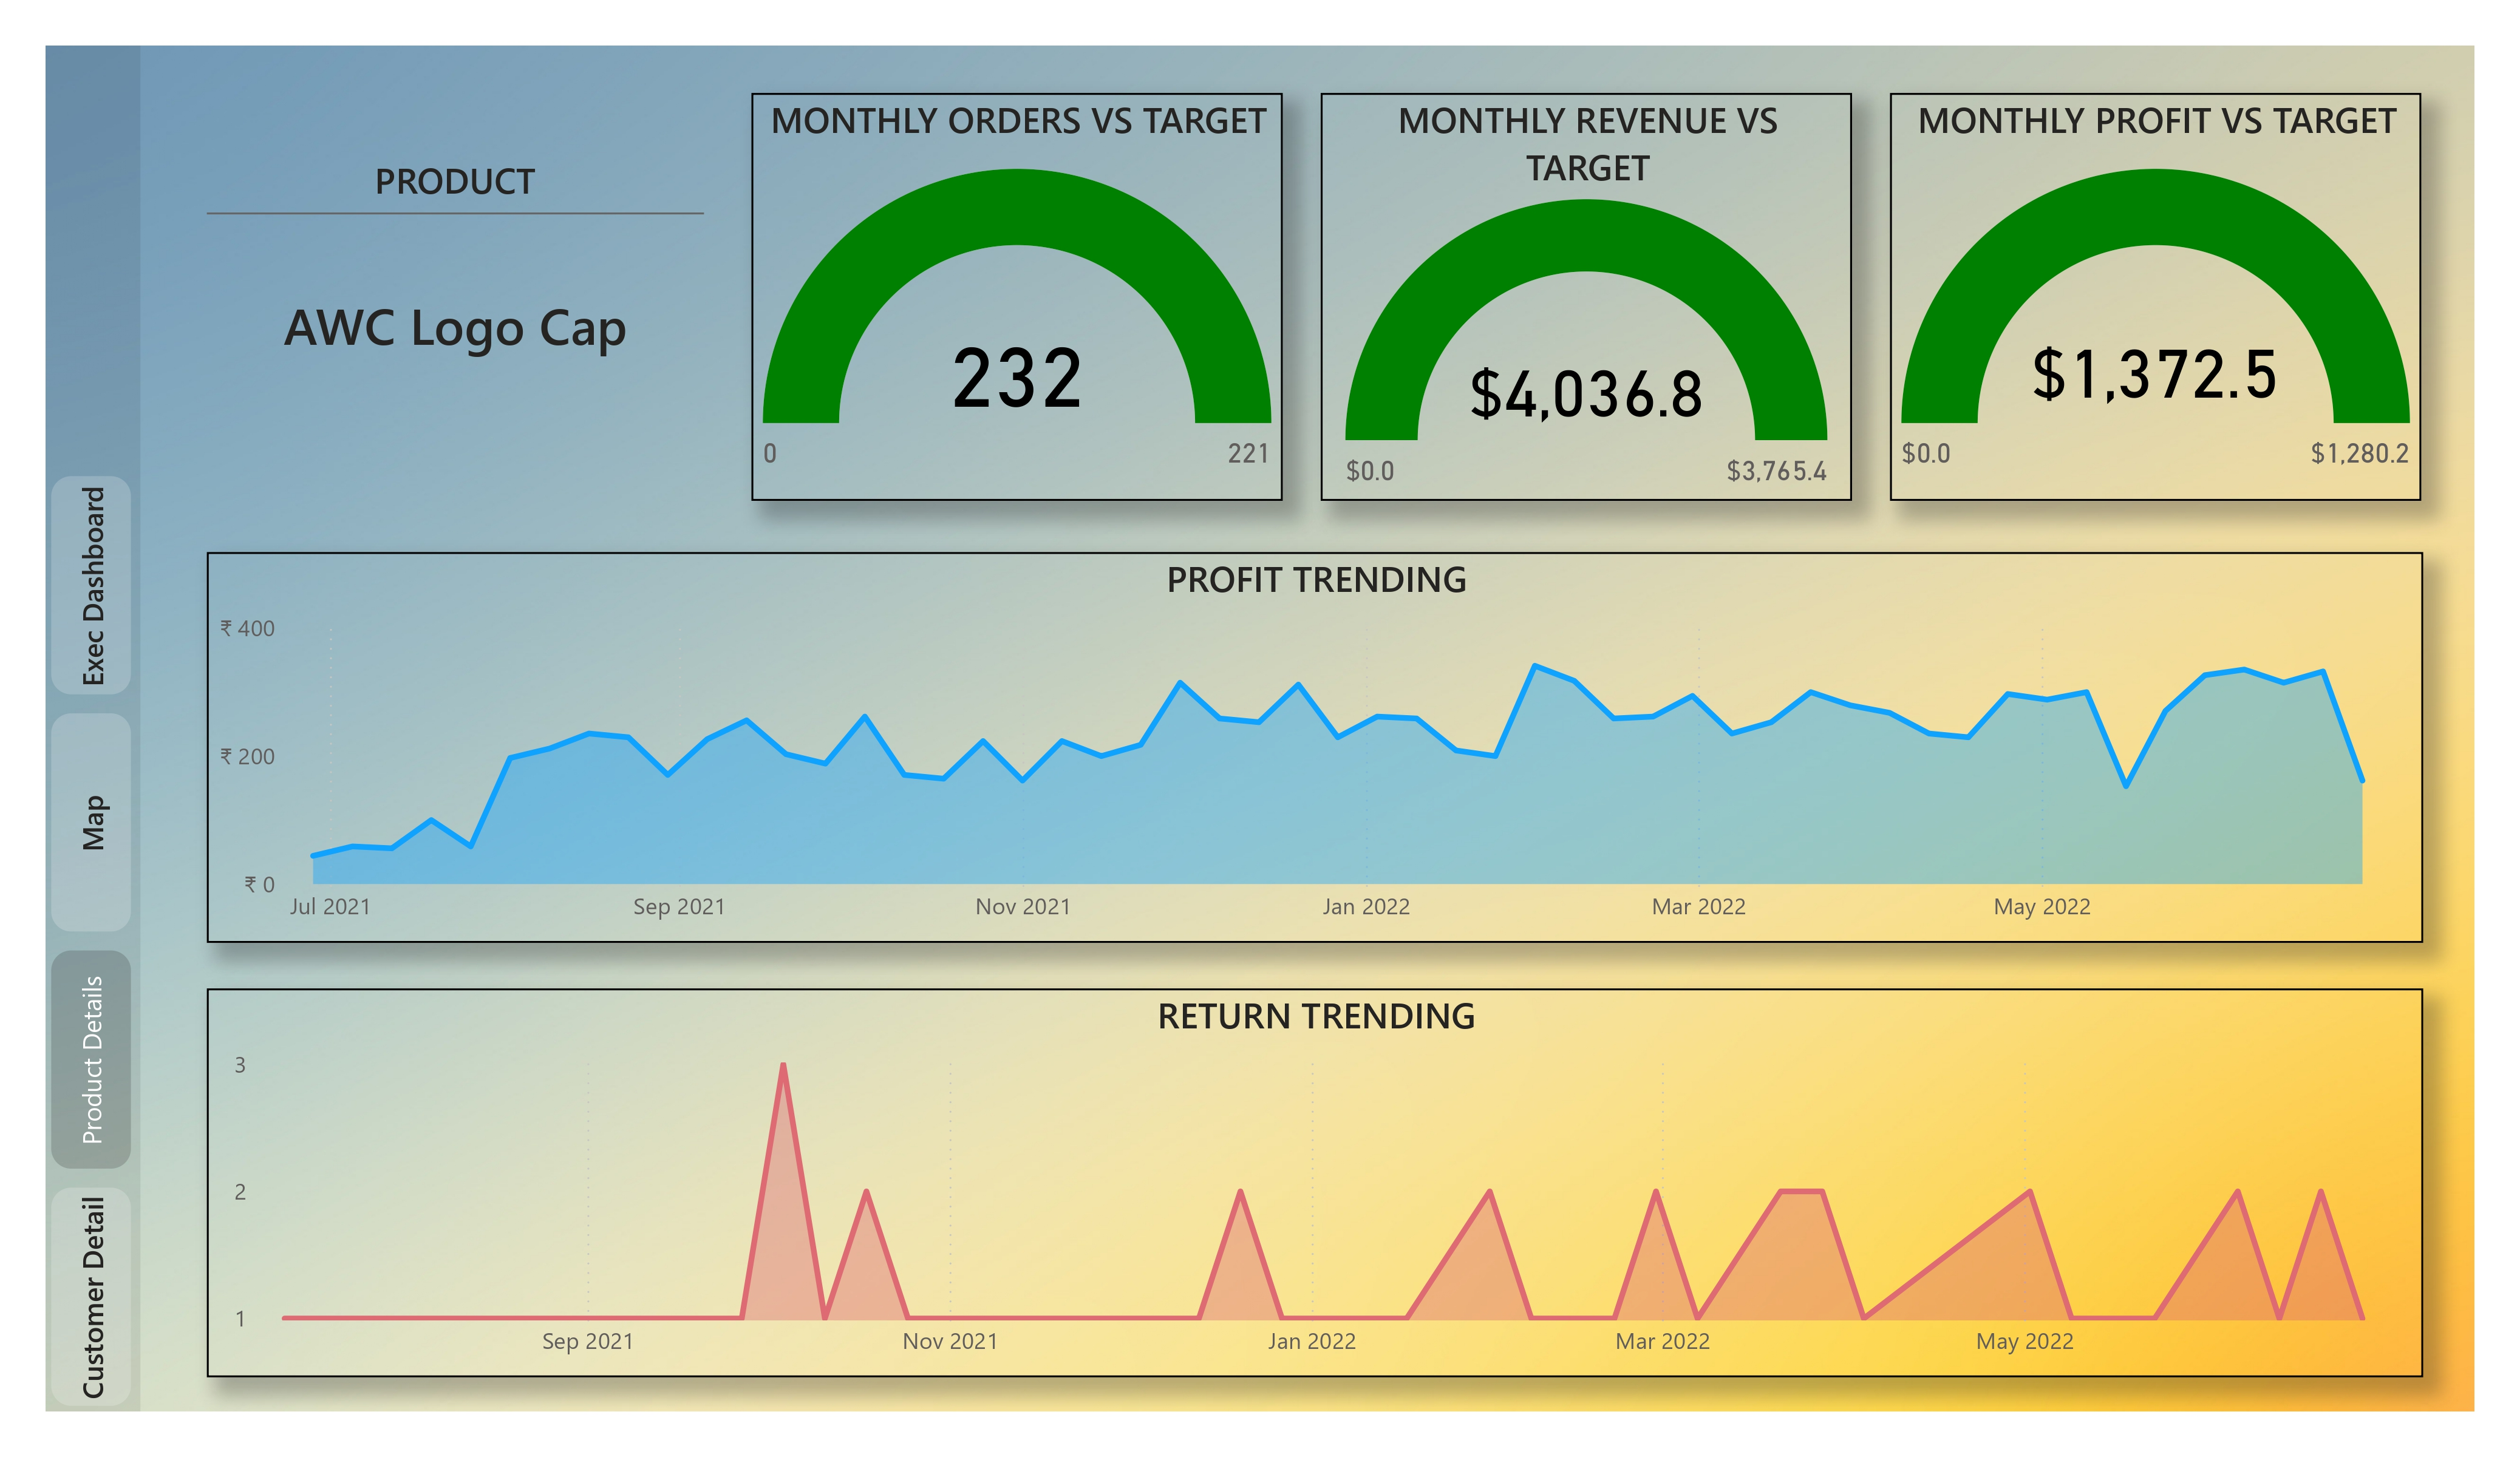

What the dashboard file says about the page in this screenshot:
{"tool":"powerbi","page":{"name":"Product Details","canvas":[1280,720],"ordinal":2},"visuals":[{"type":"gauge","title":"MONTHLY ORDERS VS TARGET","fields":{"Y":["Measure Table.Total Orders"],"MaxValue":["Measure Table.Order Target"]},"box":[371.7,25,280,215],"z":0},{"type":"gauge","title":"MONTHLY REVENUE VS TARGET","fields":{"Y":["Measure Table.Total Revenue"],"MaxValue":["Measure Table.Revenue Target"]},"box":[671.7,25,280,215],"z":1000},{"type":"gauge","title":"MONTHLY PROFIT VS TARGET","fields":{"Y":["Measure Table.Total Profit"],"MaxValue":["Measure Table.Profit Target"]},"box":[971.7,25,280,215],"z":2000},{"type":"areaChart","title":"PROFIT TRENDING","fields":{"Y":["Measure Table.Total Profit"],"Category":["Calendar Lookup.Date Hierarchy.Start of Year","Calendar Lookup.Date Hierarchy.Start of Month","Calendar Lookup.Date Hierarchy.Start of Week","Calendar Lookup.Date Hierarchy.Date"]},"box":[85,266.7,1168.3,206.7],"z":3000},{"type":"areaChart","title":"RETURN TRENDING","fields":{"Y":["Measure Table.Total Returns"],"Category":["Calendar Lookup.Date Hierarchy.Start of Year","Calendar Lookup.Date Hierarchy.Start of Month","Calendar Lookup.Date Hierarchy.Start of Week","Calendar Lookup.Date Hierarchy.Date"]},"box":[85,496.7,1168.3,205],"z":4000},{"type":"card","title":"PRODUCT","fields":{"Values":["Min(Product Lookup.ProductName)"]},"box":[85,58.3,261.7,148.3],"z":5000},{"type":"shape","box":[0,0,50,720],"z":6000},{"type":"pageNavigator","box":[3.3,226.7,41.7,493.3],"z":7000}]}

Visuals, with their boxes in screenshot pixels (x1, y1, x2, y2):
"MONTHLY ORDERS VS TARGET" gauge: 735:100:1260:502
"MONTHLY REVENUE VS TARGET" gauge: 1297:100:1822:502
"MONTHLY PROFIT VS TARGET" gauge: 1859:100:2383:502
"PROFIT TRENDING" areaChart: 199:552:2386:939
"RETURN TRENDING" areaChart: 199:982:2386:1367
"PRODUCT" card: 199:161:689:440
shape: 39:52:133:1401
pageNavigator: 46:477:124:1401
